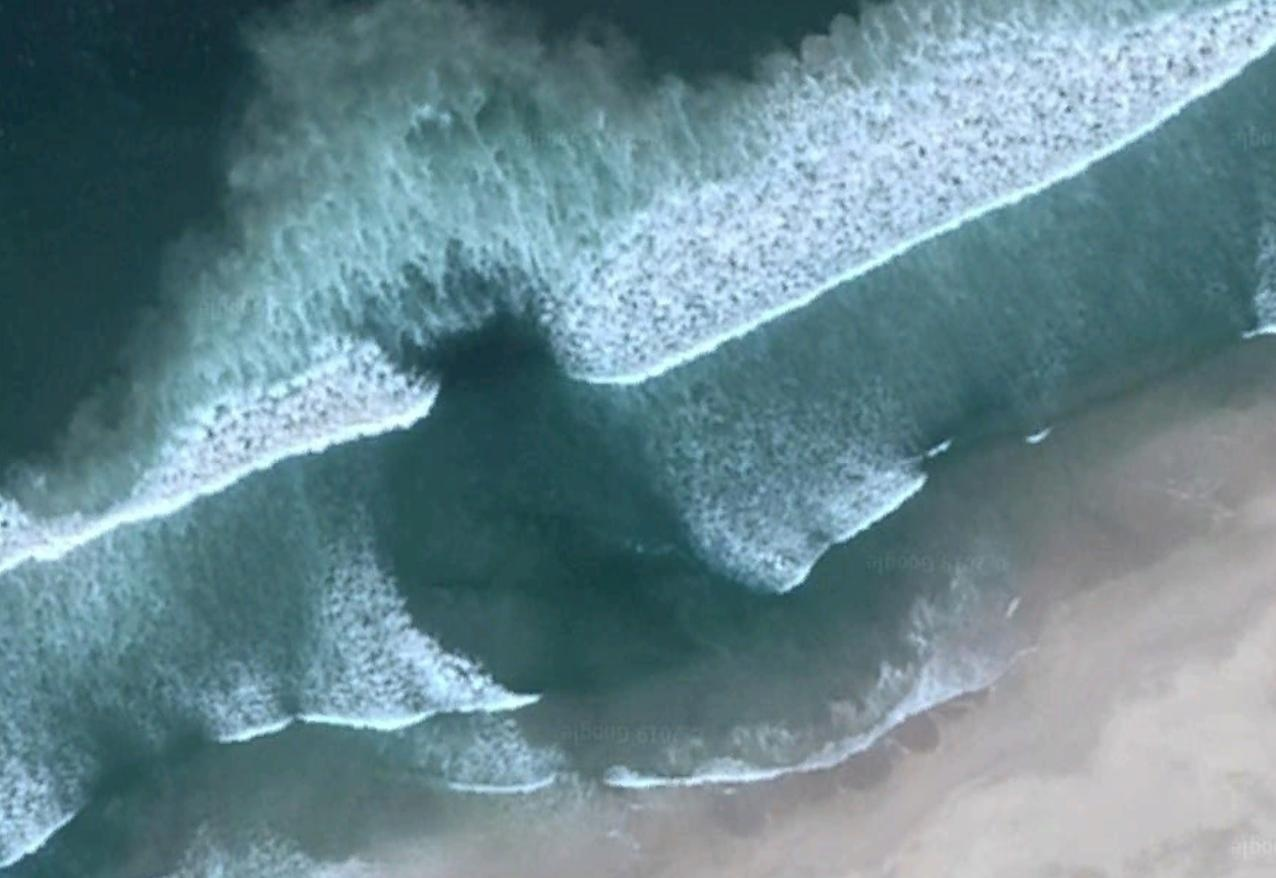rip_current: (227, 55, 735, 689)
